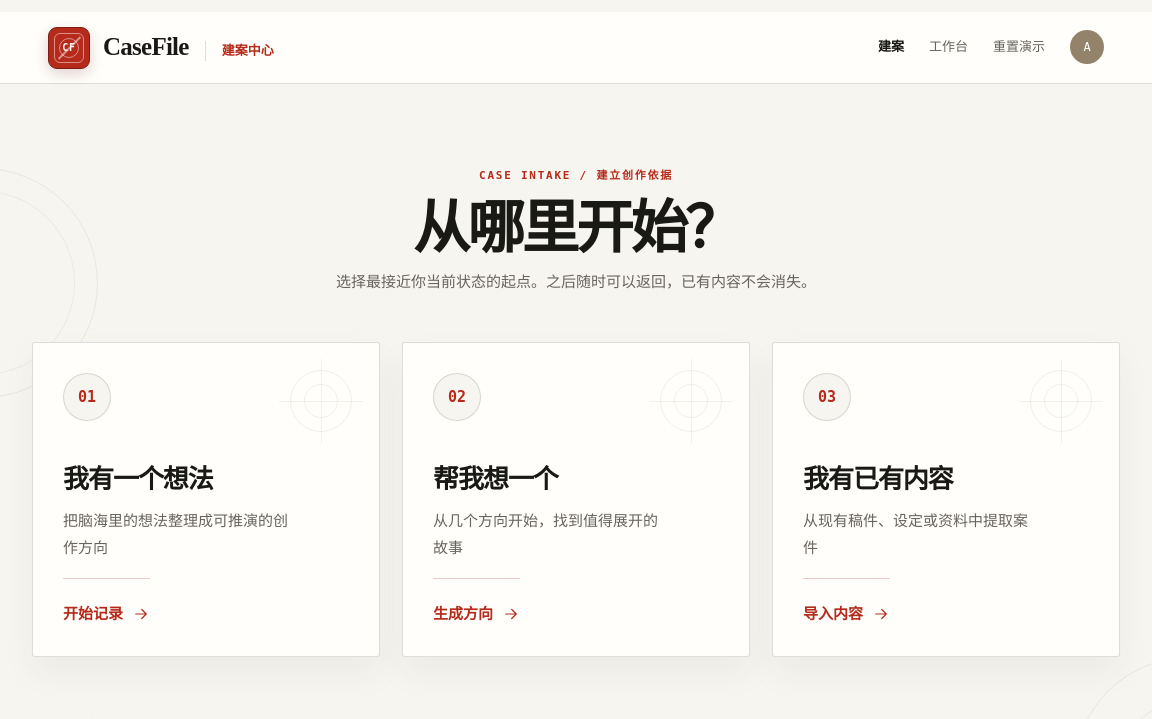
Test: visual intake demo › opens the 我有已有内容 first screen and can return home
Click the button "03 我有已有内容 从现有稿件、设定或资料中提取案件 导入内容" at point(827, 397), box [772,342,1120,657]
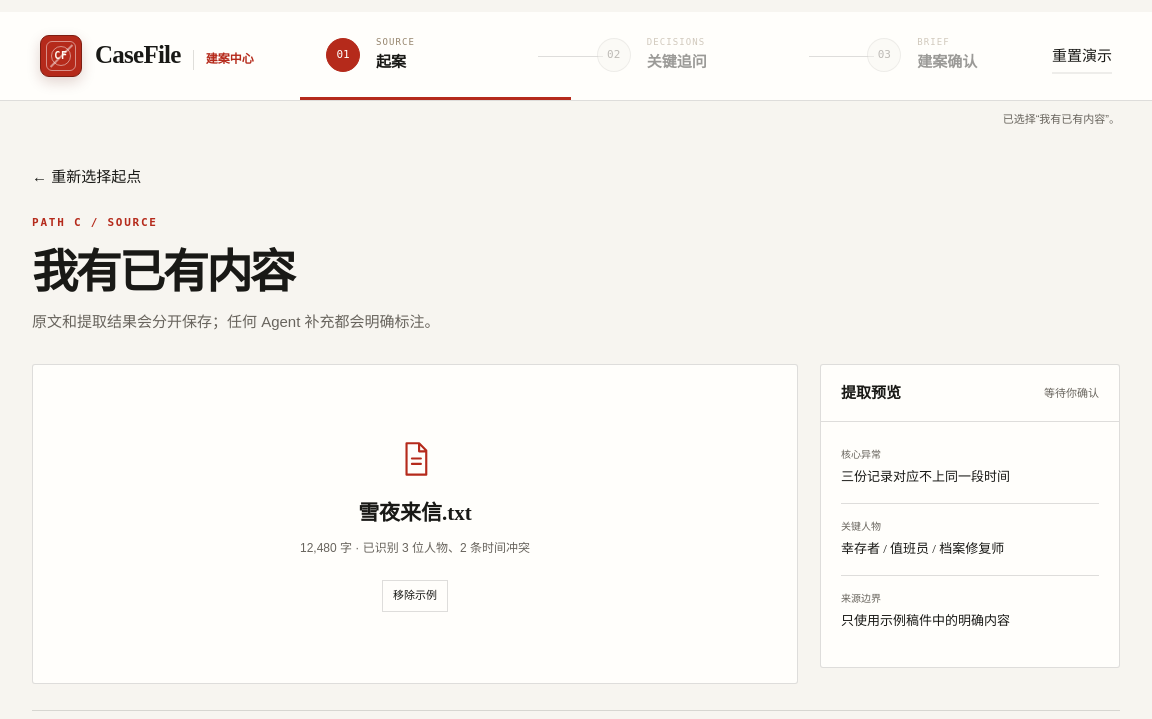
Check: the heading "我有已有内容" is shown, box [32,247,293,298]
Check: the text "雪夜来信.txt" is shown, box [358,497,472,531]
Check: the button "移除示例" is shown, box [382,580,448,612]
Click the button "← 重新选择起点" at point(87, 177), box [32,165,141,189]
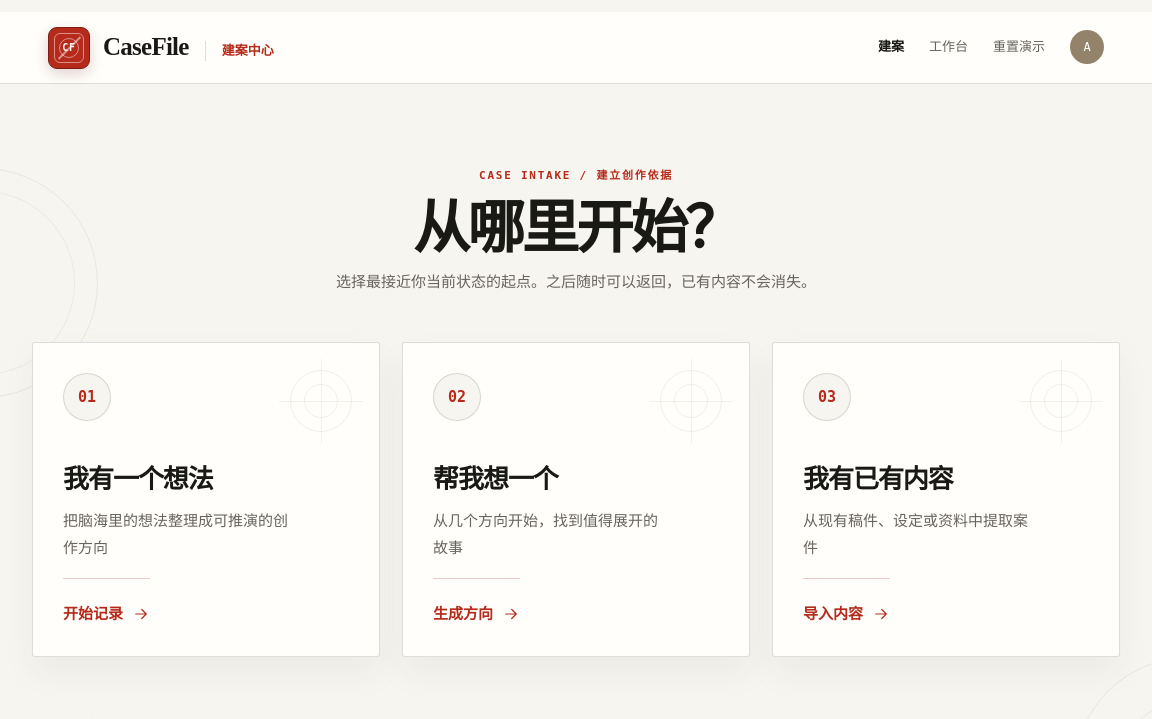
Check: the heading "从哪里开始？" is shown, box [413,197,739,260]
